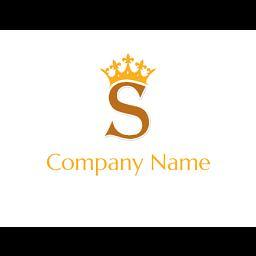s: (96, 80, 164, 142)
